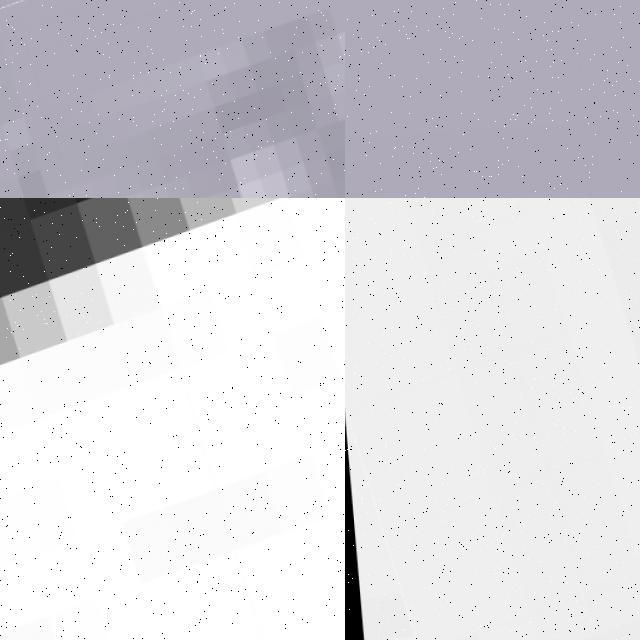0: (0, 0, 345, 198)
drone: (0, 198, 345, 640), (345, 198, 640, 640)
